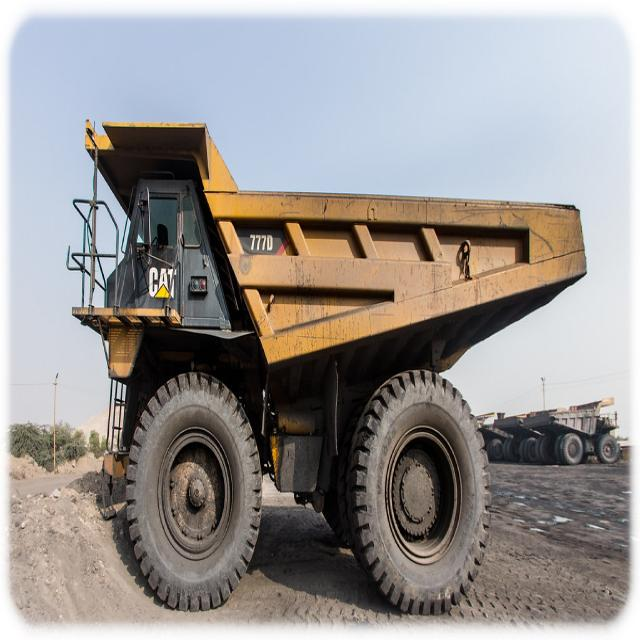dump_truck: (74, 98, 593, 599), (545, 398, 621, 468), (518, 405, 550, 463)
